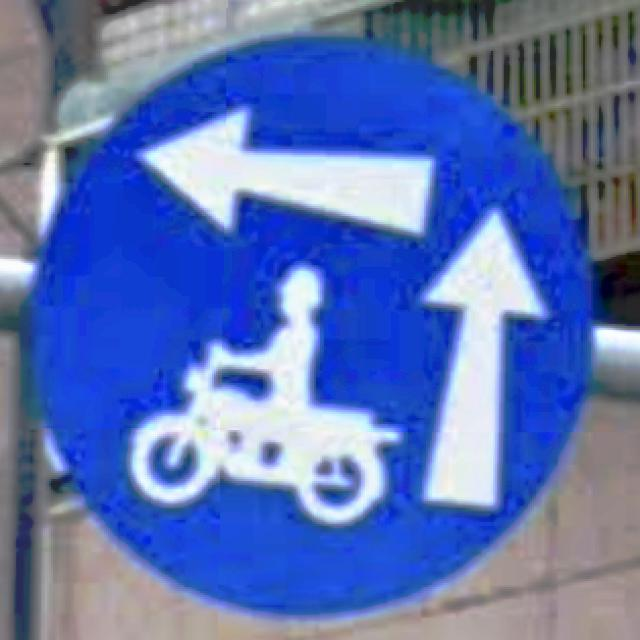twostageturn: (20, 31, 597, 628)
